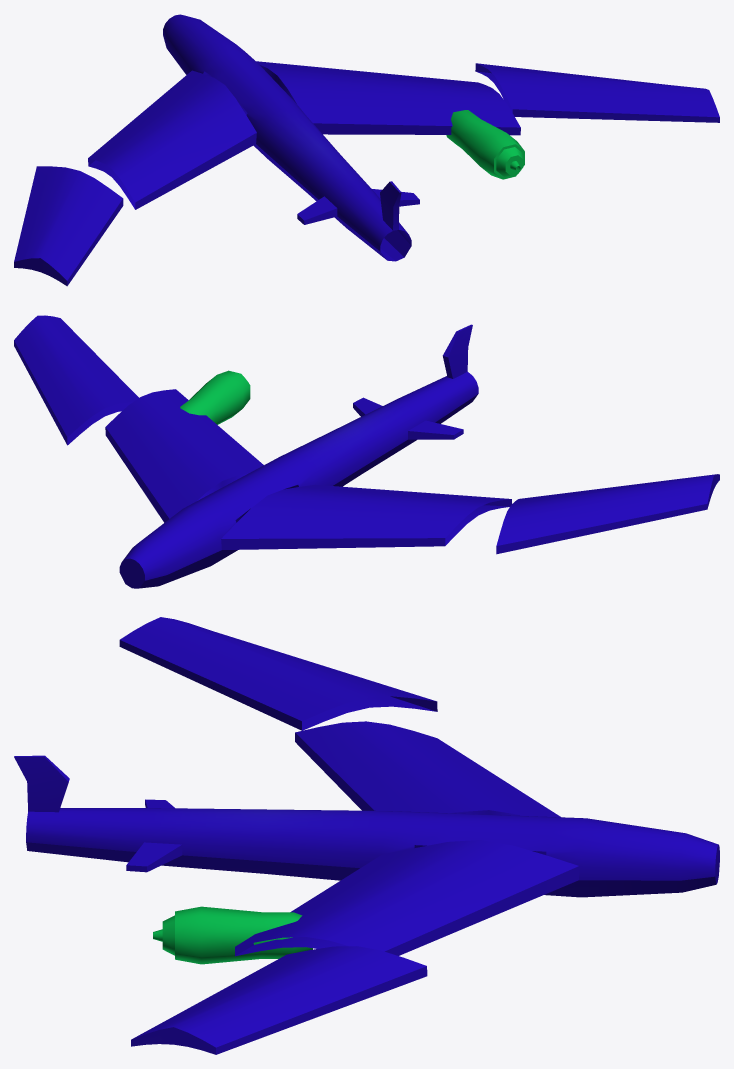
The model's file is broke_plane_01.fbx.
3 renders of one model, top to bottom at view 1: azimuth 30°, elevation 25°; view 2: azimuth 150°, elevation 25°; view 3: azimuth 270°, elevation 25°, orthographic. The views are drawn at different scales.
Parts seen in each view (by area): view 1: plane.001, plane_rocket.001; view 2: plane.001, plane_rocket.001; view 3: plane.001, plane_rocket.001.
Part boxes in pixels (left/top/right/bottom): plane.001: left=14, top=14, right=719, bottom=286; plane_rocket.001: left=446, top=110, right=524, bottom=179; plane.001: left=14, top=315, right=719, bottom=588; plane_rocket.001: left=180, top=370, right=250, bottom=424; plane.001: left=14, top=617, right=719, bottom=1054; plane_rocket.001: left=153, top=906, right=312, bottom=964.
Bounding box in the file's own units: 3168 × 386 × 2251.
